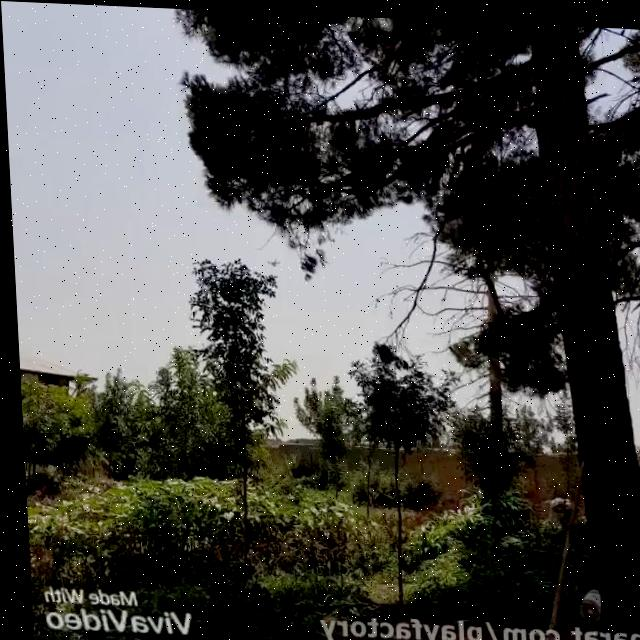drone: (260, 247, 280, 265)
